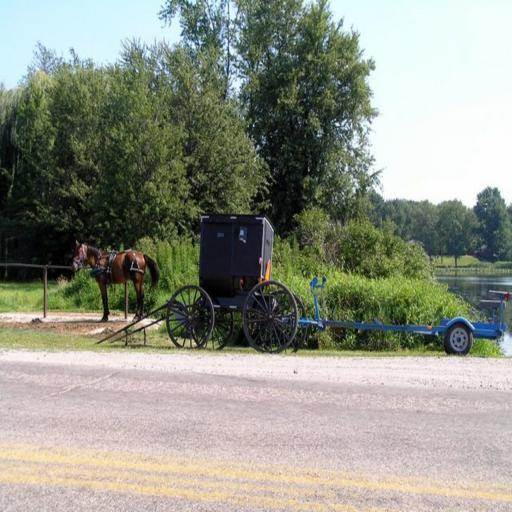horse: (68, 237, 161, 322)
